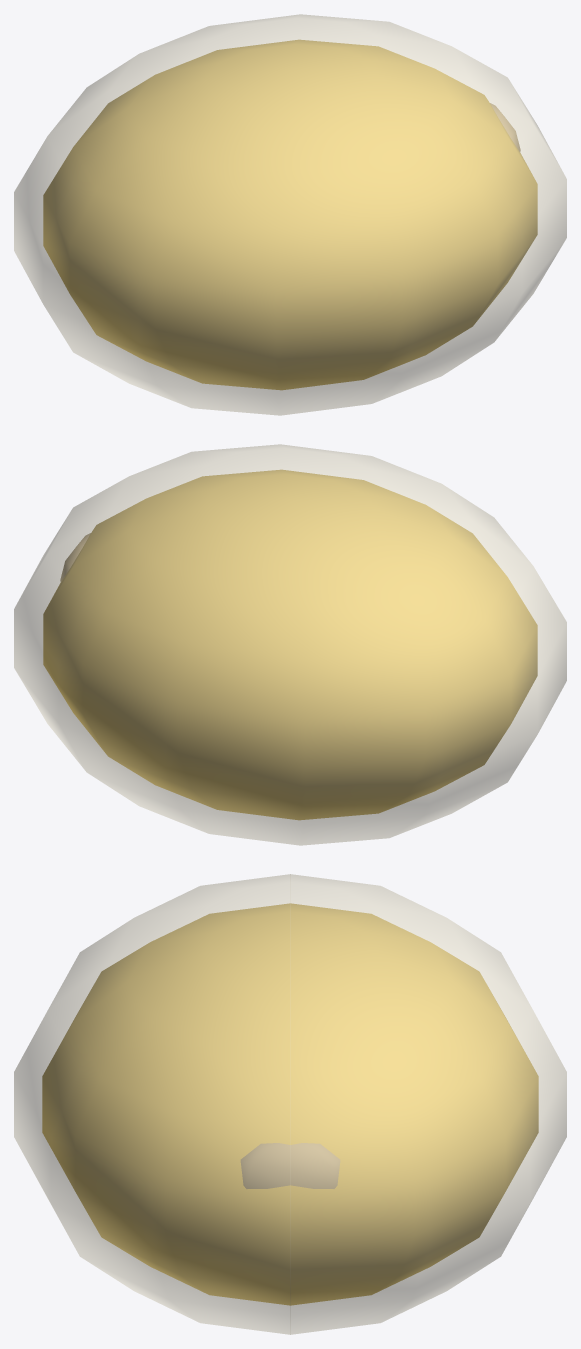
The model's file is chocho.glb.
3 renders of one model, top to bottom at view 1: azimuth 30°, elevation 25°; view 2: azimuth 150°, elevation 25°; view 3: azimuth 270°, elevation 25°, orthographic. The views are drawn at different scales.
Visible parts, largest first — view 1: piel, pepa; view 2: piel, pepa; view 3: piel, pepa, ombligo.
Part boxes in pixels (x1,y1,x2,y2): piel: (14, 14, 566, 415); pepa: (43, 39, 537, 390); piel: (14, 444, 566, 845); pepa: (43, 469, 537, 820); piel: (14, 874, 566, 1334); pepa: (42, 903, 538, 1305); ombligo: (240, 1143, 340, 1188).
Bounding box in the file's own units: 0.2206 × 0.144 × 0.193.
